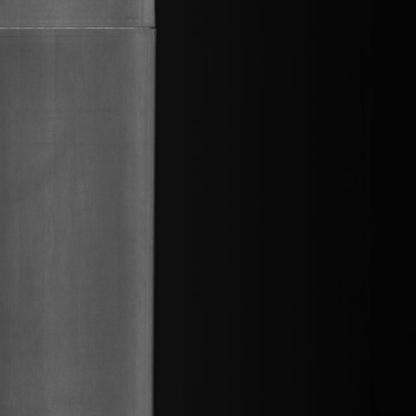welding_line: (0, 12, 167, 48)
